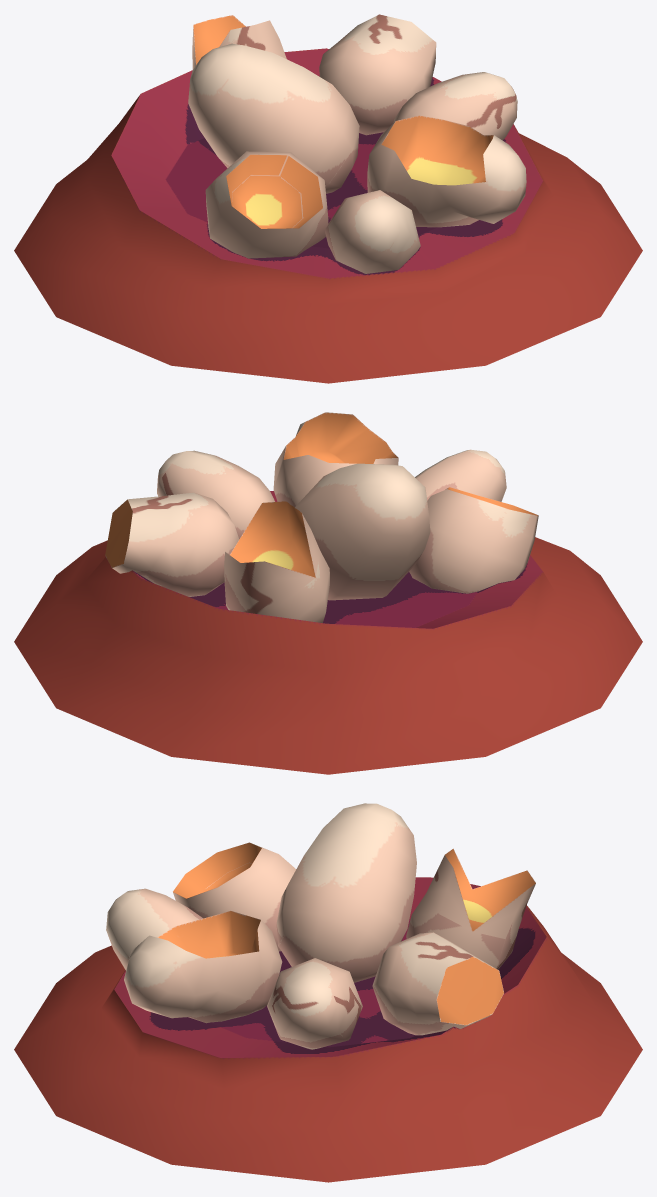
The model's file is DinoNestDamagedFinal.fbx.
The picture shows the model from 3 angles, top to bottom: view 1: azimuth 30°, elevation 25°; view 2: azimuth 150°, elevation 25°; view 3: azimuth 270°, elevation 25°; orthographic projection.
Visible parts, largest first — view 1: DinoNestDamaged; view 2: DinoNestDamaged; view 3: DinoNestDamaged.
Boxes of the visible parts, x1=… form: DinoNestDamaged: x1=14, y1=14, x2=642, y2=383; DinoNestDamaged: x1=14, y1=412, x2=642, y2=774; DinoNestDamaged: x1=14, y1=803, x2=642, y2=1182.
Size of the model in its own units: 7.86 by 2.86 by 7.86.
